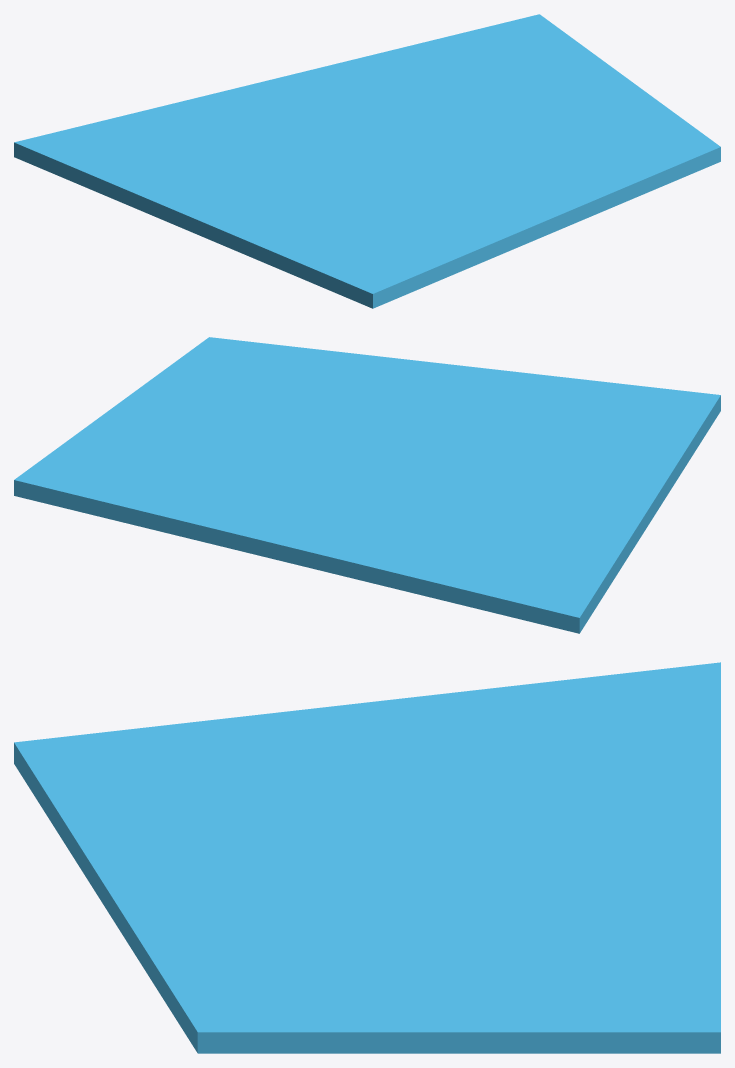
File: azul.fbx
The picture shows the model from 3 angles, top to bottom: view 1: azimuth 30°, elevation 25°; view 2: azimuth 150°, elevation 25°; view 3: azimuth 270°, elevation 25°; orthographic projection. The views are drawn at different scales.
Parts seen in each view (by area): view 1: Cube; view 2: Cube; view 3: Cube.
Part boxes in pixels (x1,y1,x2,y2): Cube: (14,14,720,308); Cube: (14,337,720,633); Cube: (14,662,720,1053).
Size of the model in its own units: 932 by 25 by 753.
